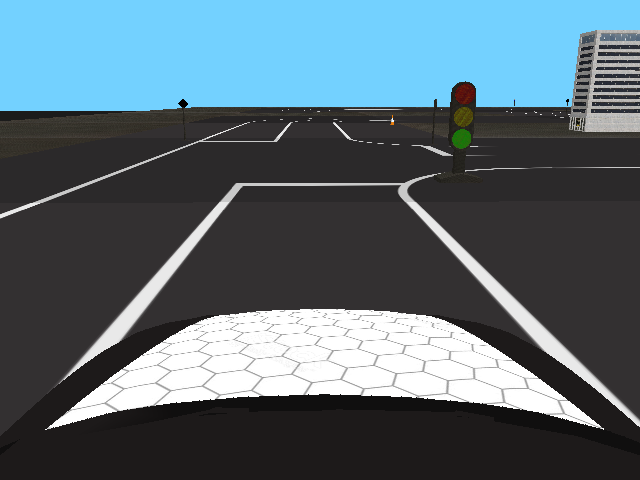green_light: (448, 81, 476, 150)
